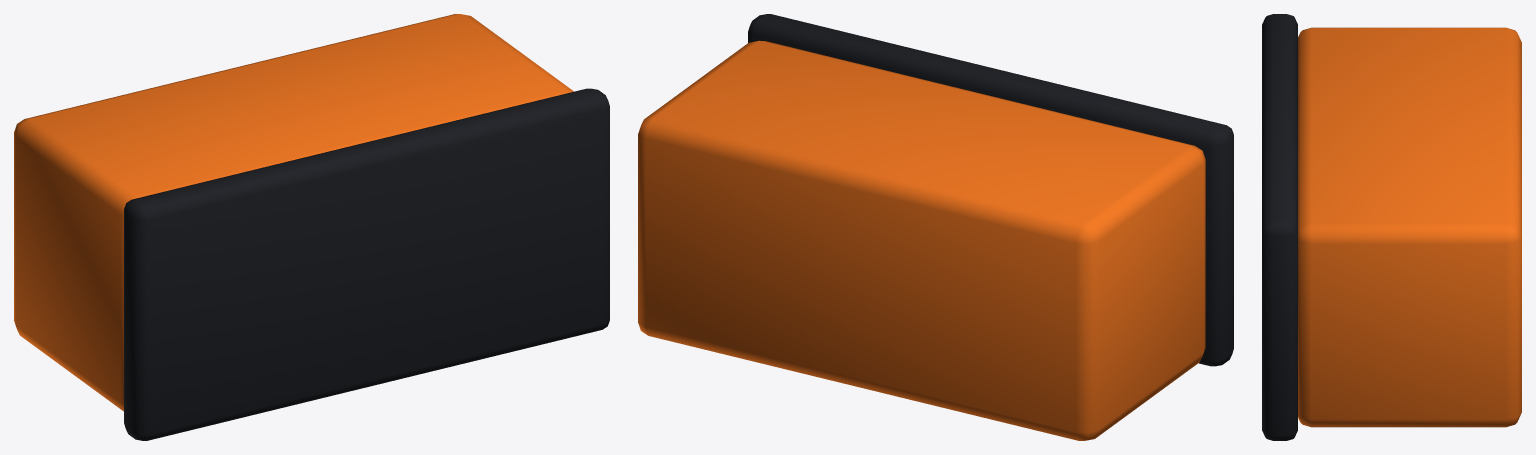
Rendered from carthabot_obstacle.obj.
3 renders of one model, left to right at view 1: azimuth 30°, elevation 25°; view 2: azimuth 150°, elevation 25°; view 3: azimuth 270°, elevation 25°, orthographic. The views are drawn at different scales.
Parts seen in each view (by area): view 1: ObsBand, Obstacle; view 2: Obstacle, ObsBand; view 3: Obstacle, ObsBand.
Boxes of the visible parts, box(x1,y1,x2,y2) form: ObsBand: box(124, 88, 609, 440); Obstacle: box(14, 14, 573, 411); Obstacle: box(638, 40, 1205, 440); ObsBand: box(748, 14, 1233, 366); Obstacle: box(1298, 27, 1521, 427); ObsBand: box(1262, 14, 1297, 440).
Bounding box in the file's own units: 2.28 × 1.08 × 1.16.
